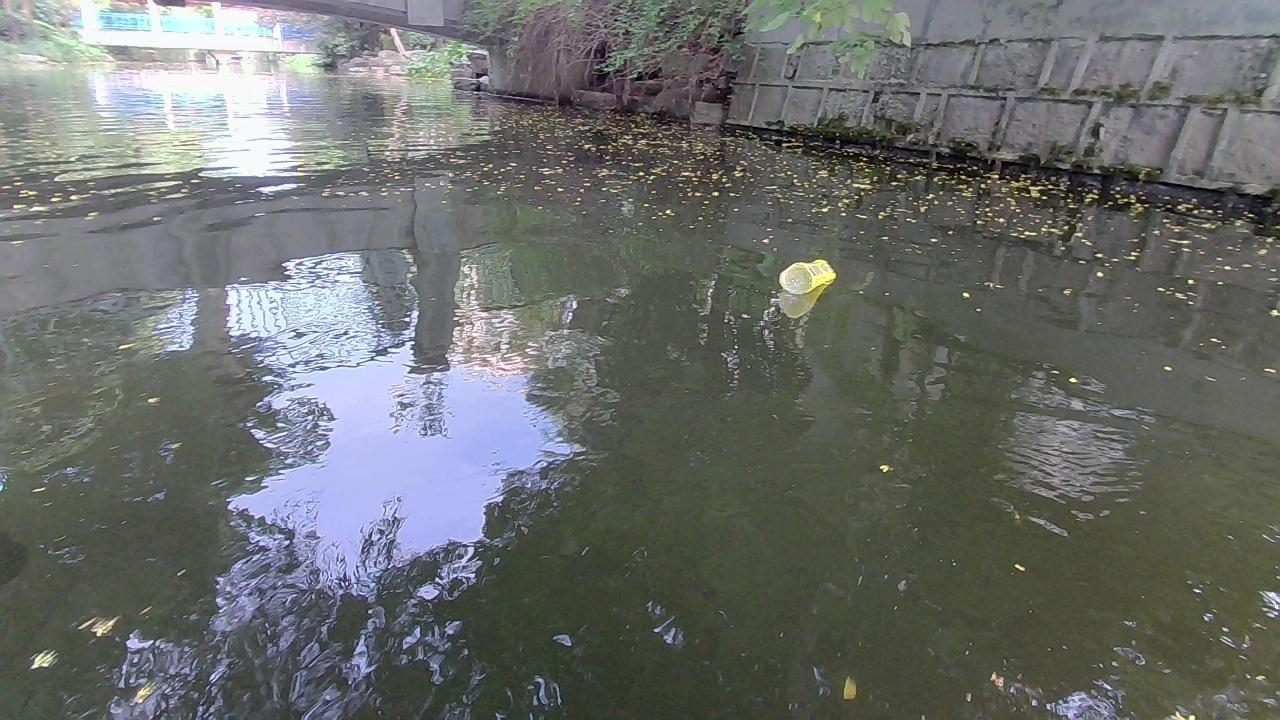bottle: (774, 254, 838, 295)
